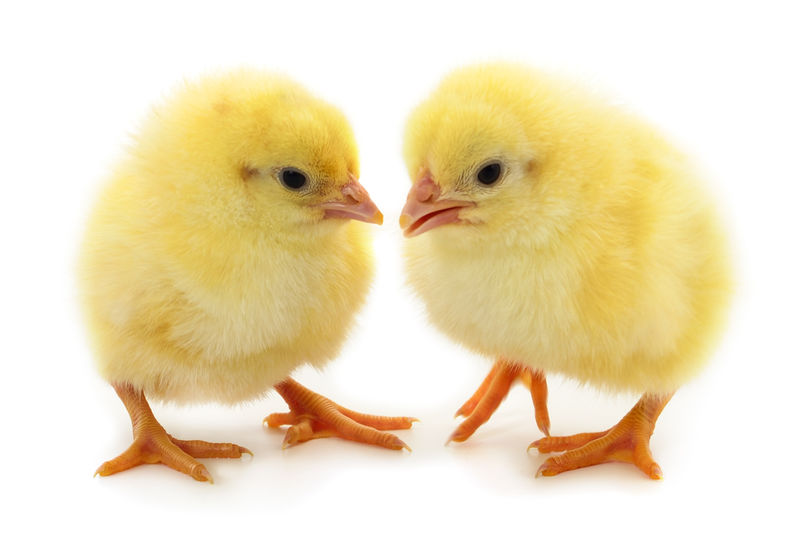hen: (394, 58, 752, 485), (71, 62, 419, 486)
